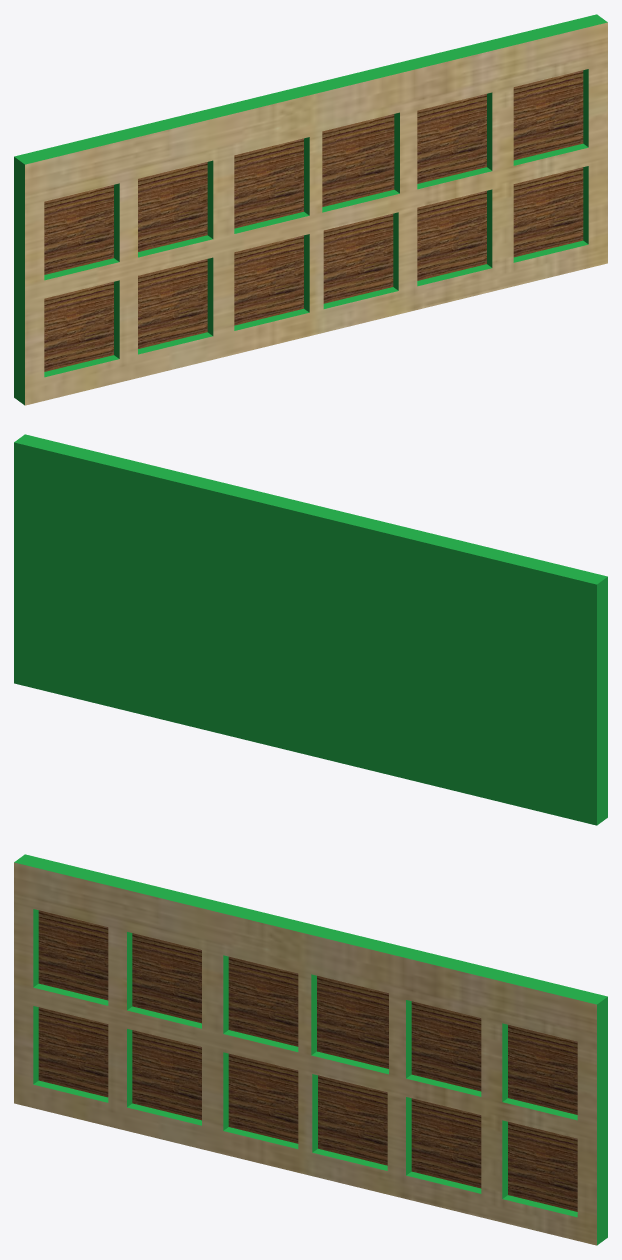
The model's file is plateau2.obj.
3 views of the same model, one above another, from view 1: azimuth 30°, elevation 25°; view 2: azimuth 150°, elevation 25°; view 3: azimuth 330°, elevation 25° (orthographic).
Visible parts, largest first — view 1: Object.1; view 2: Object.1; view 3: Object.1.
Part boxes in pixels (left/top/right/bottom): Object.1: left=14, top=14, right=607, bottom=405; Object.1: left=14, top=434, right=607, bottom=825; Object.1: left=14, top=854, right=607, bottom=1245.
Size of the model in its own units: 98.68 by 38.99 by 3.24.
4 materials, 2 textured.
